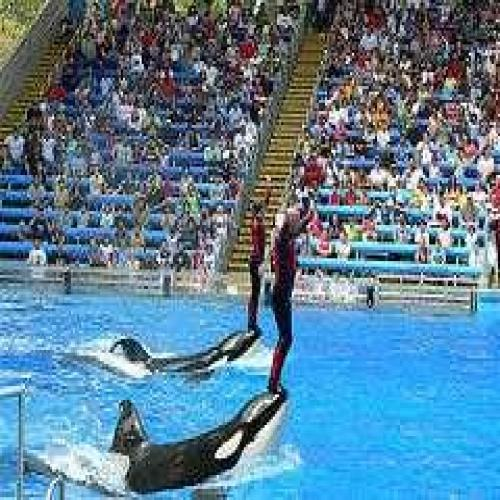killer_whale-endangered: (84, 386, 298, 493), (96, 302, 273, 391)
